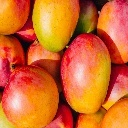mango: (58, 33, 111, 115), (3, 66, 59, 128), (30, 1, 79, 54)
